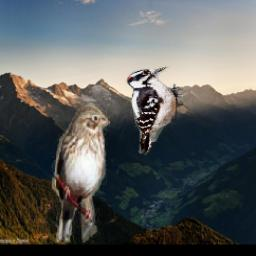Sparrow: (53, 103, 111, 243)
Woodpecker: (126, 67, 184, 156)
